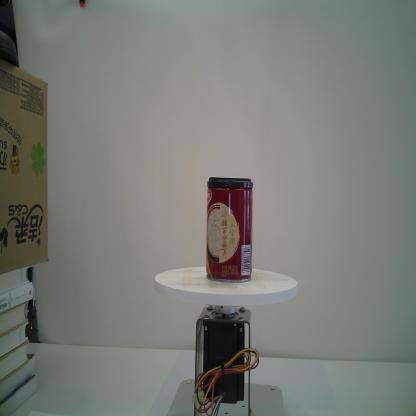Canned Food: (204, 175, 255, 284)
